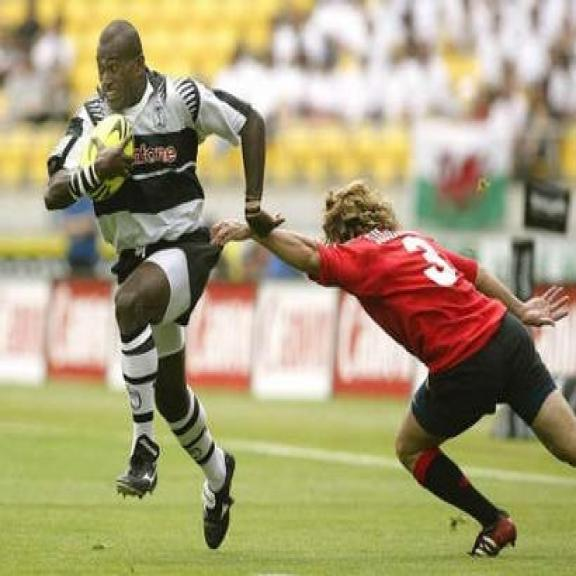face: (94, 22, 147, 113)
